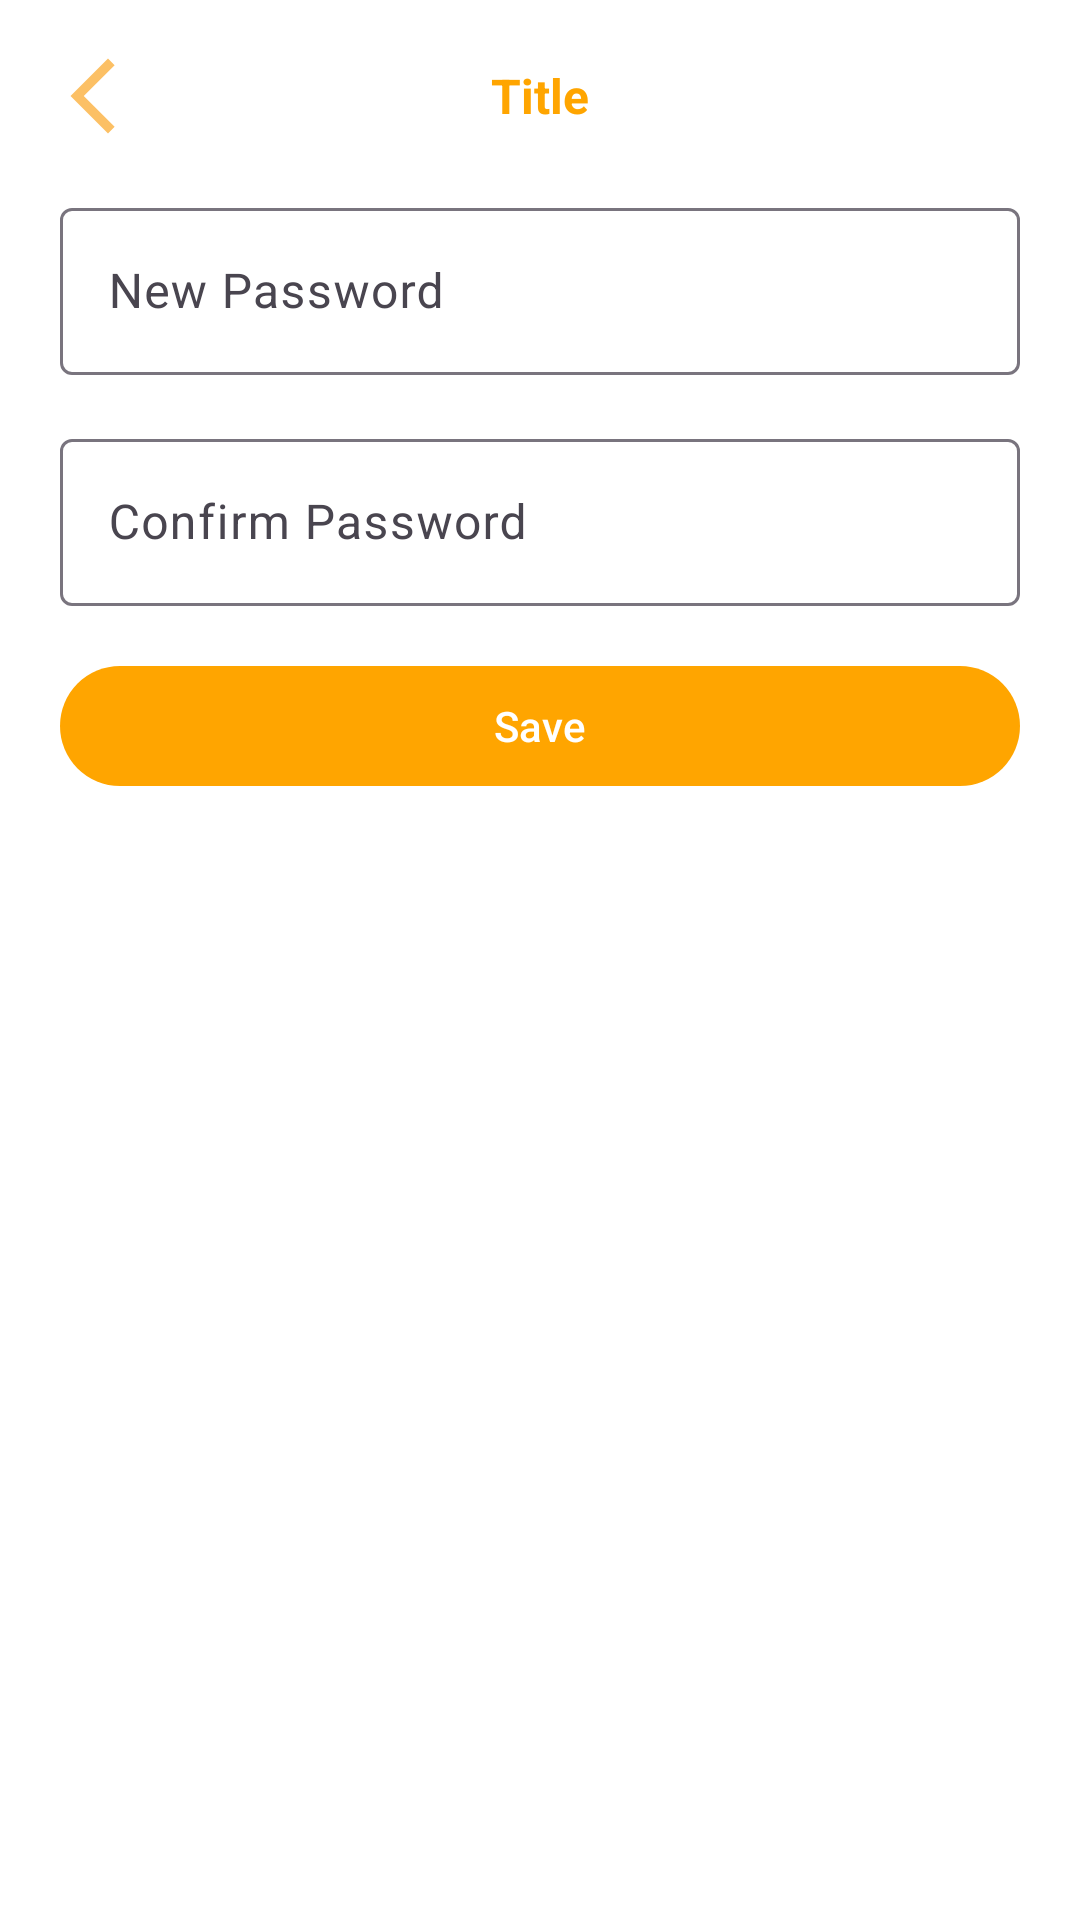

Icon click points for this 1080px x 1920px phone screenshot, format (x,y):
back: (93,96)
